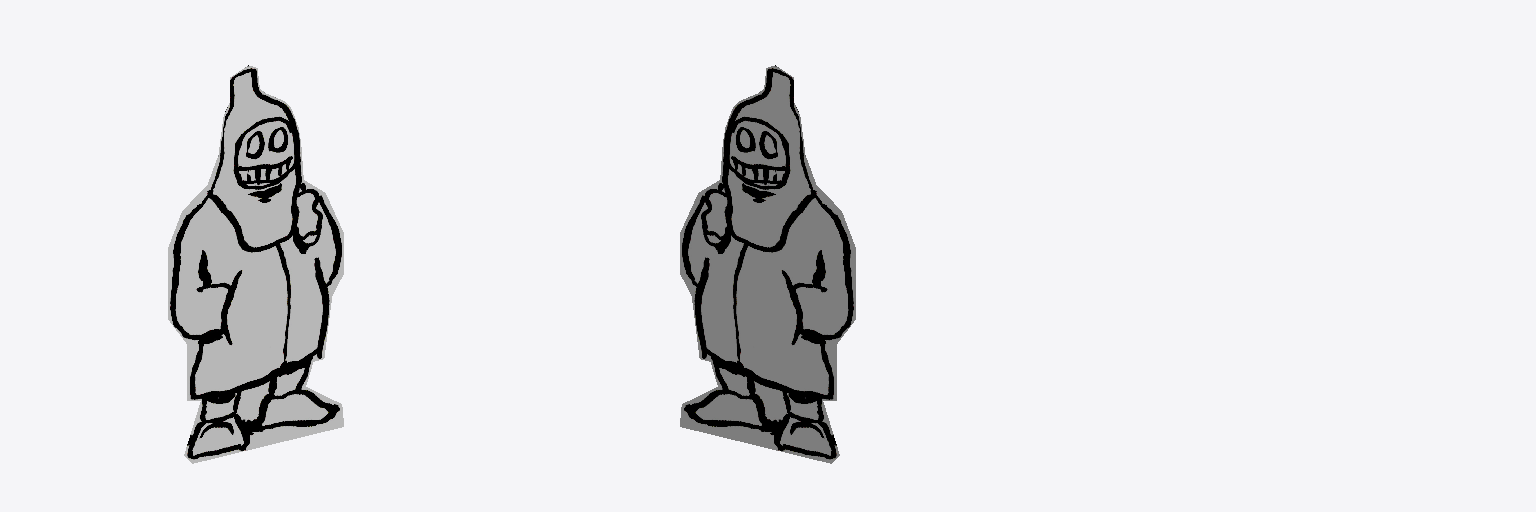
3 renders of one model, left to right at view 1: azimuth 30°, elevation 25°; view 2: azimuth 150°, elevation 25°; view 3: azimuth 270°, elevation 25°, orthographic.
Visible parts, largest first — view 1: stalker; view 2: stalker; view 3: none.
Boxes of the visible parts, x1=… form: stalker: x1=168, y1=65, x2=343, y2=463; stalker: x1=680, y1=65, x2=855, y2=463.
Bounding box in the file's own units: 0.9584 × 2 × 0.
Materials: 1 (1 with a texture image).